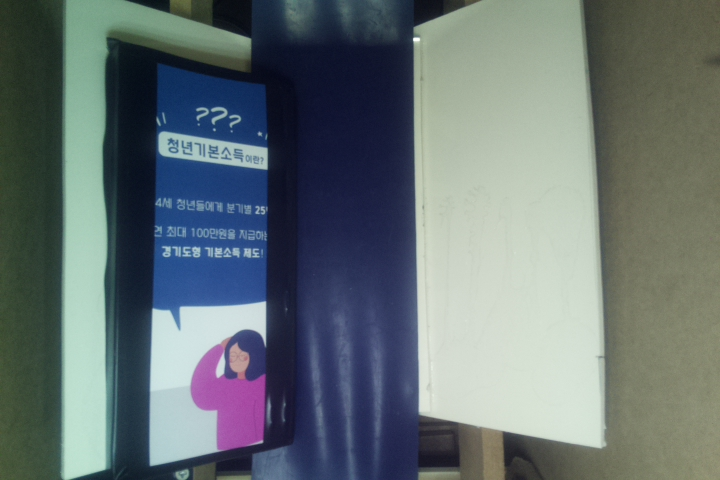book: (105, 39, 294, 480)
